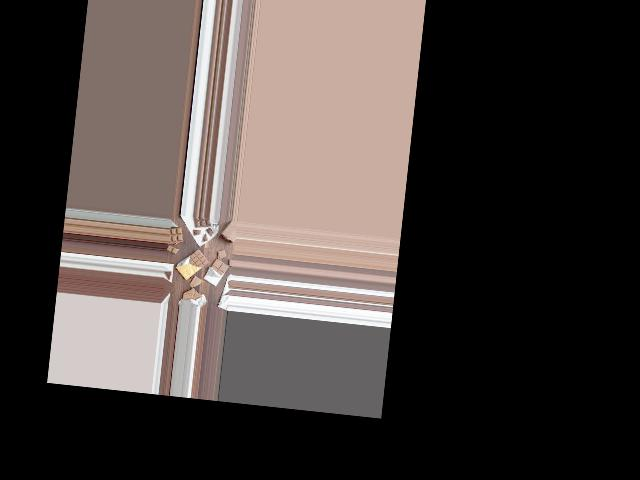chocolate: (202, 257, 231, 286)
